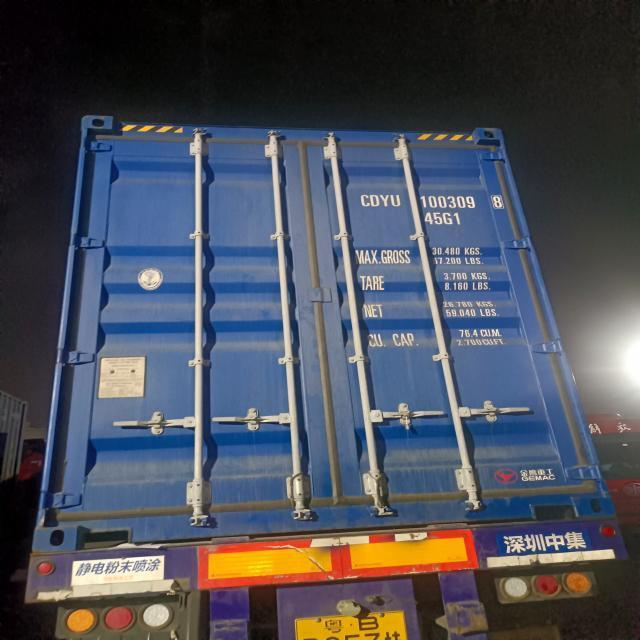ISO: (427, 212, 460, 228)
container_number: (362, 190, 506, 212)
